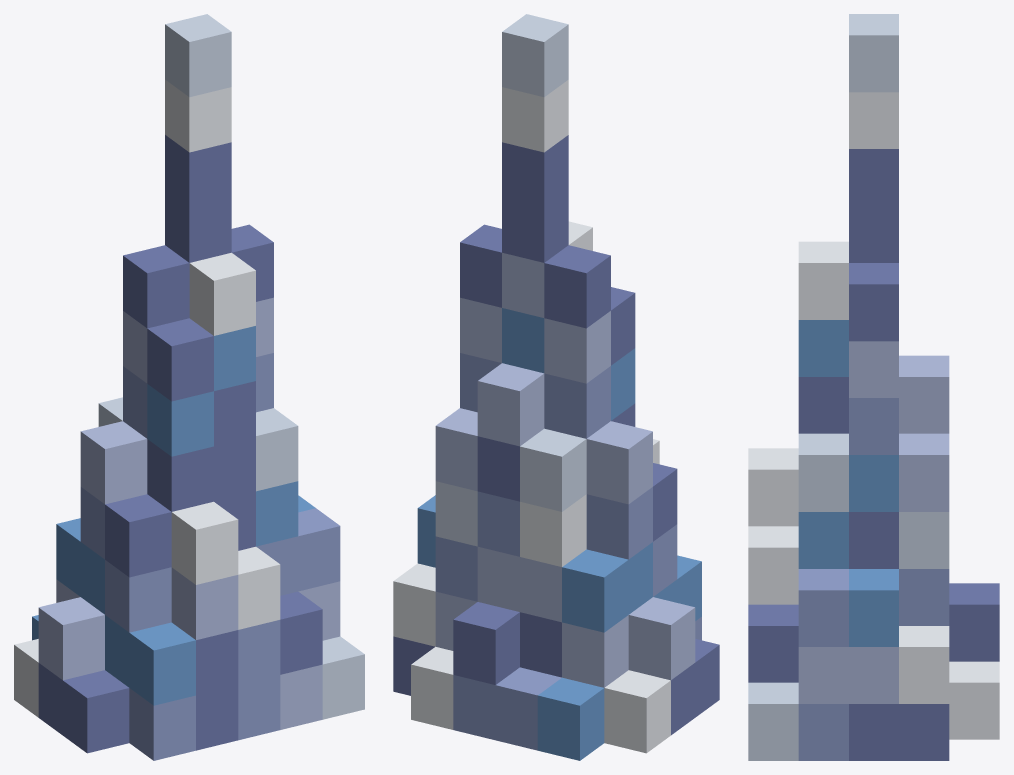
Rendered from IceCrag.glb.
3 renders of one model, left to right at view 1: azimuth 30°, elevation 25°; view 2: azimuth 150°, elevation 25°; view 3: azimuth 270°, elevation 25°, orthographic. The views are drawn at different scales.
Visible parts, largest first — view 1: IceCrag; view 2: IceCrag; view 3: IceCrag.
Part boxes in pixels (x1=…): IceCrag: x1=14, y1=14, x2=364, y2=760; IceCrag: x1=393, y1=14, x2=719, y2=760; IceCrag: x1=748, y1=14, x2=999, y2=760.
Bounding box in the file's own units: 12 × 30 × 10.
Materials: 1 (1 with a texture image).
